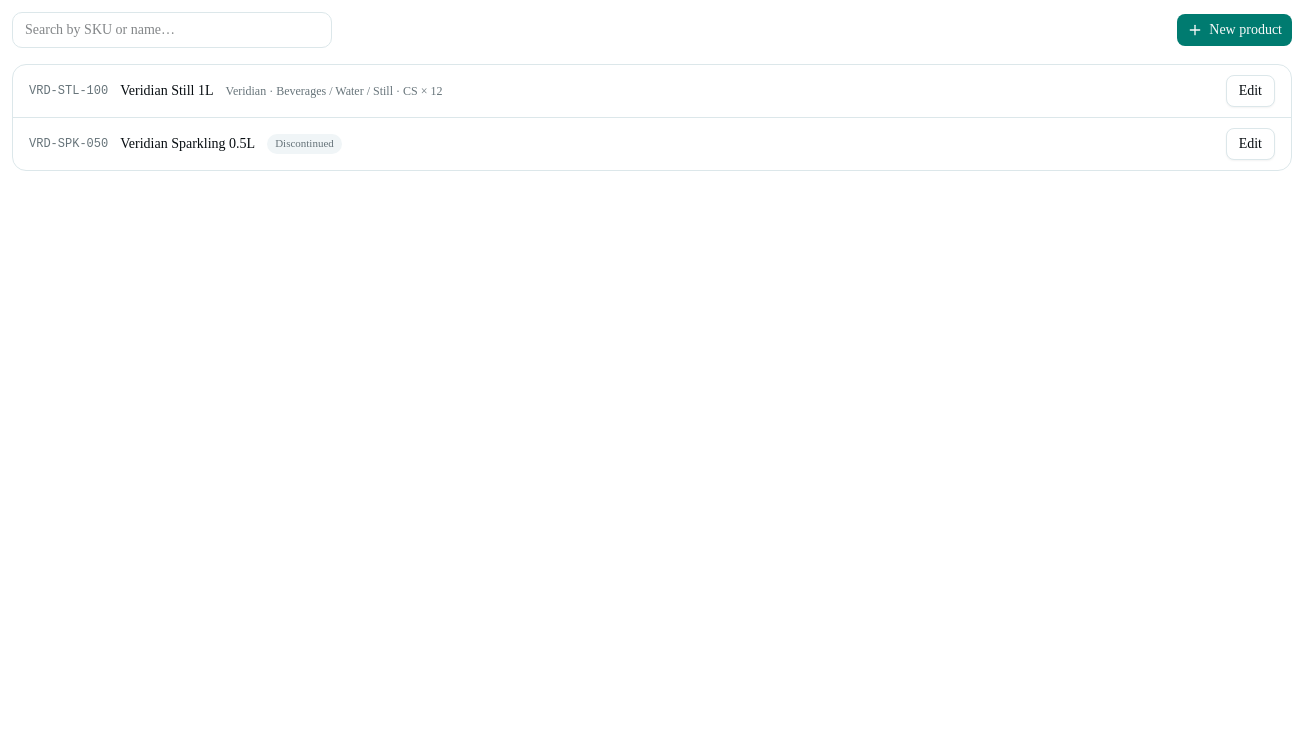
Test case: <ProductBrowser> › puts a refusal the API attributed under the field it named
Step 1. Click the button "New product" → (1235, 30), box x1=1177 y1=14 x2=1292 y2=46
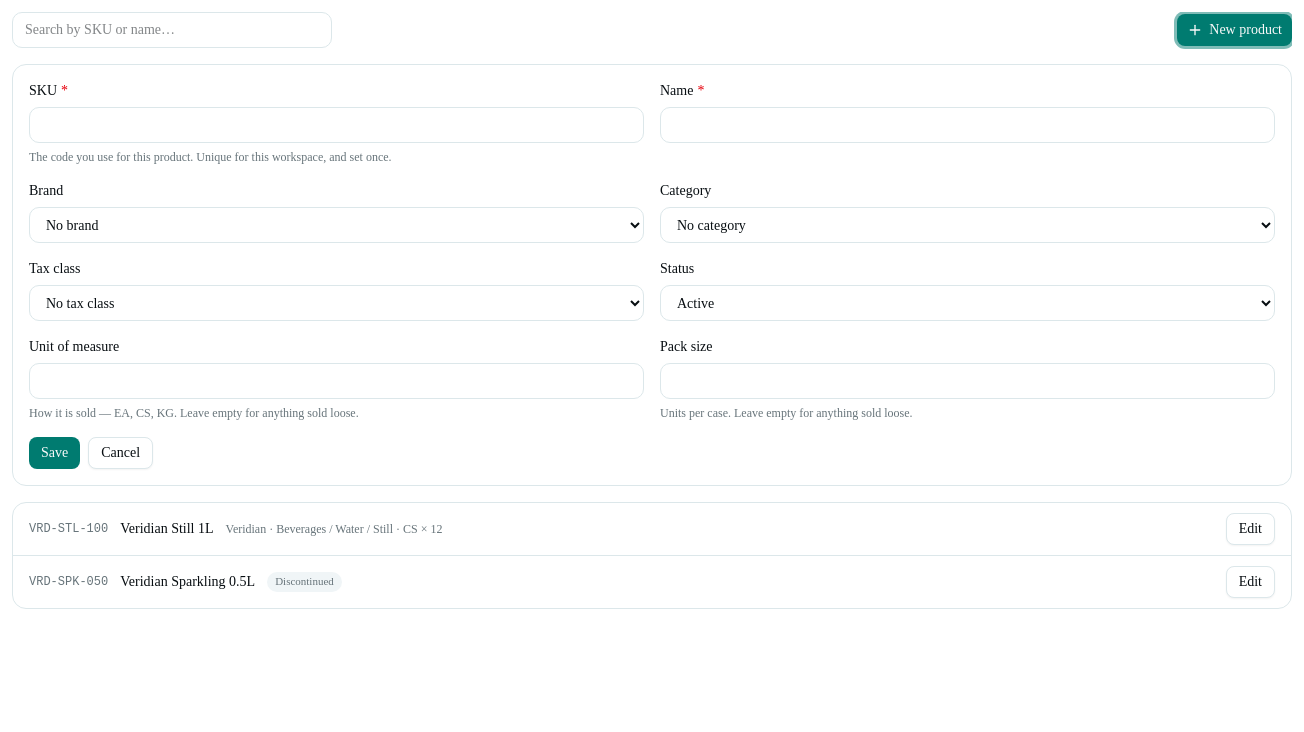
Step 2. Type "VRD-STL-330" into the field labelled "SKU*" → (336, 125), box x1=29 y1=107 x2=644 y2=143
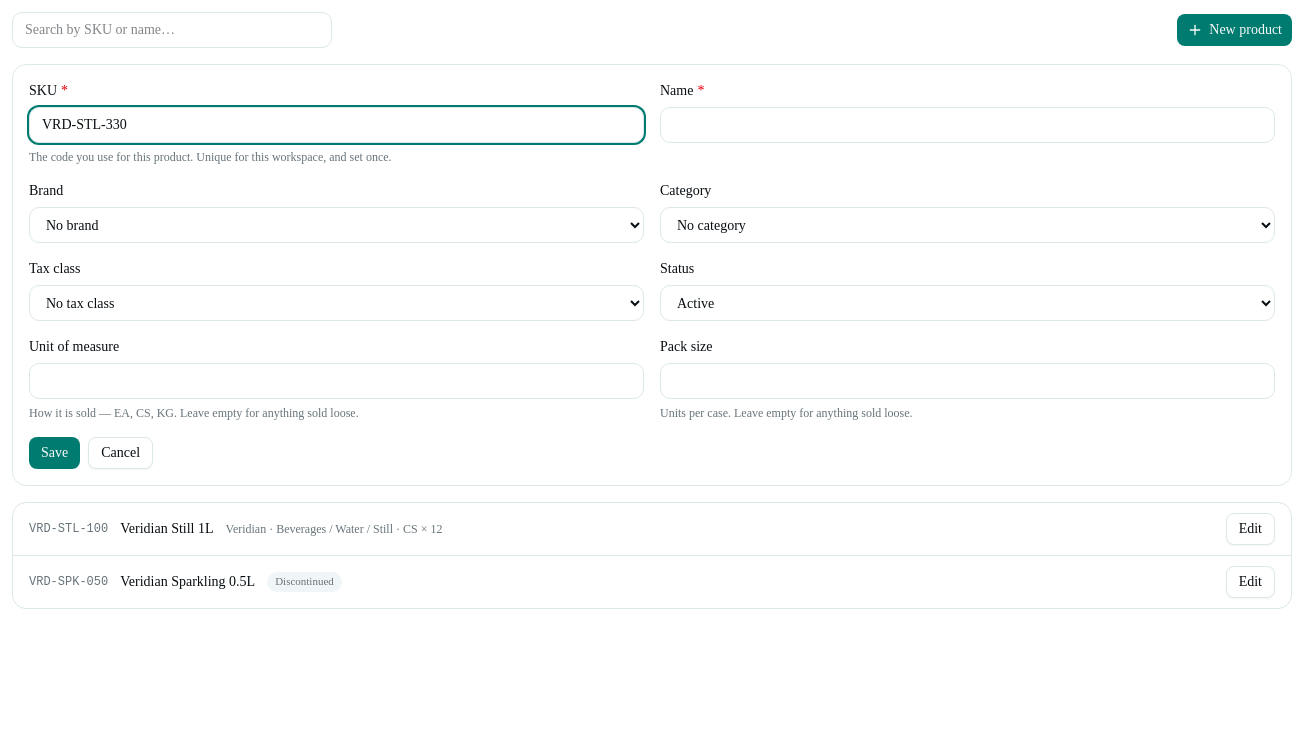
Step 3. Type "Duplicate" into the field labelled "Name*" → (968, 125), box x1=660 y1=107 x2=1275 y2=143
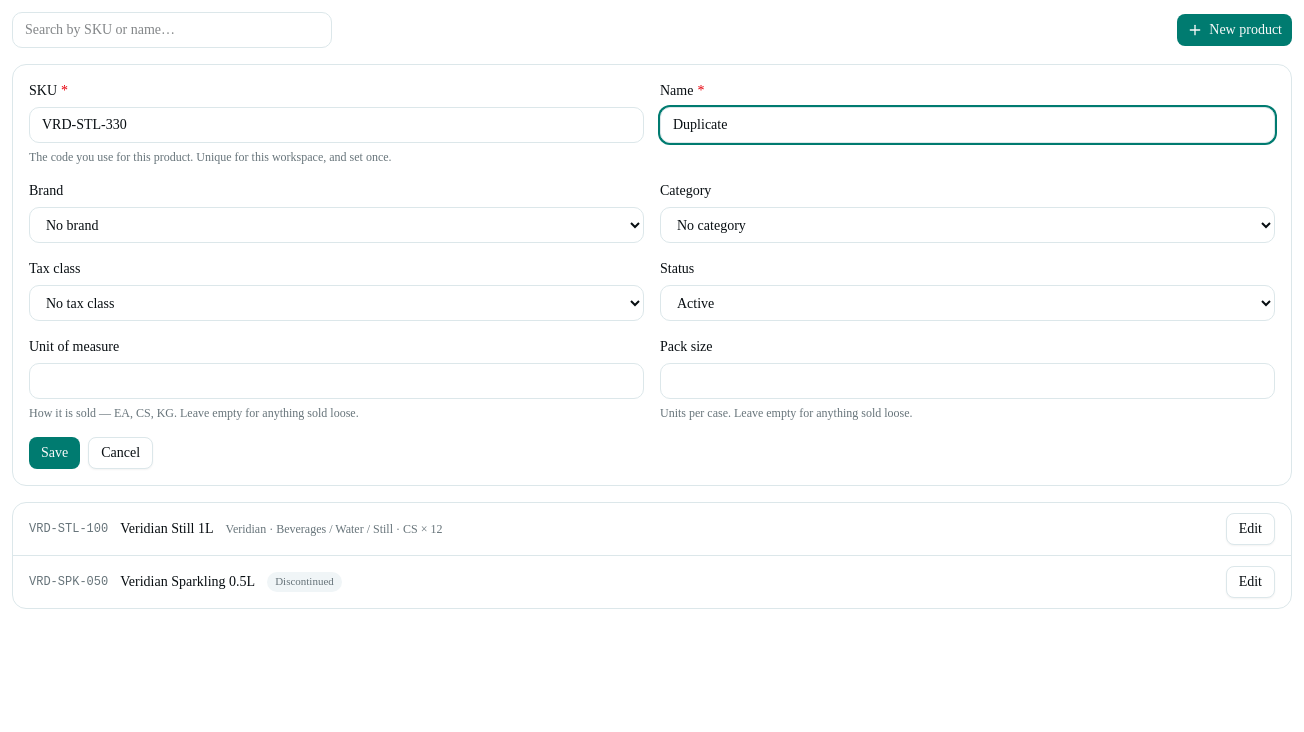
Step 4. Click the button "Save" → (55, 453), box x1=29 y1=437 x2=80 y2=469
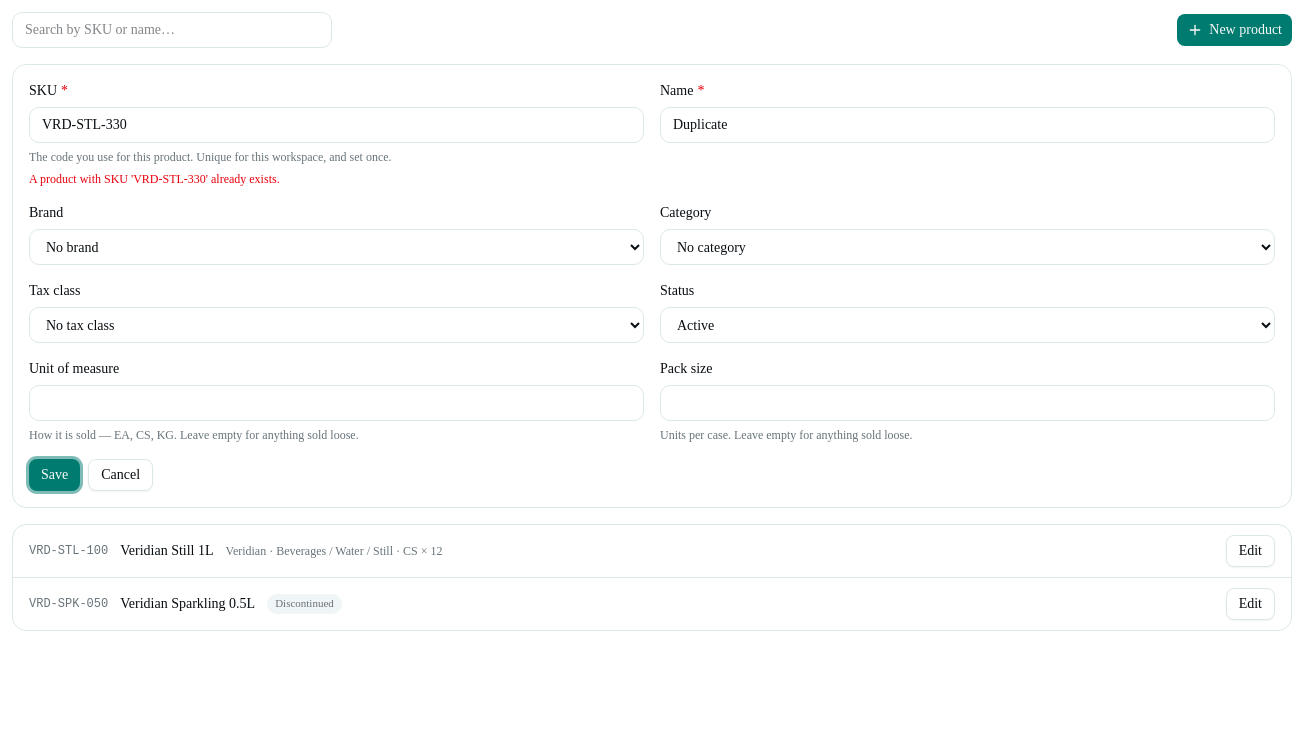
Expected: the text "A product with SKU 'VRD-STL-330' already exists." is shown, x1=29 y1=172 x2=280 y2=186
